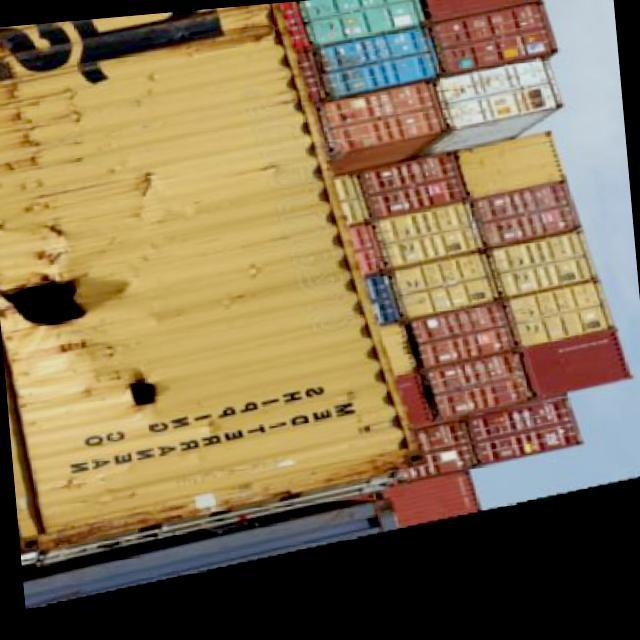hole: (1, 237, 104, 345), (88, 344, 192, 438)
rust: (1, 47, 79, 239)
